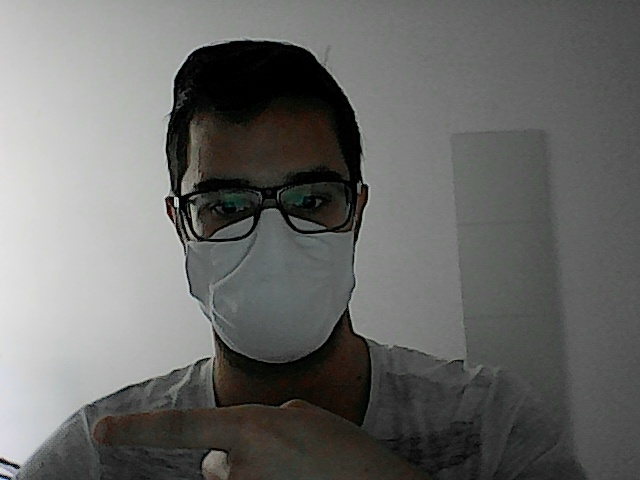right: (88, 392, 400, 480)
